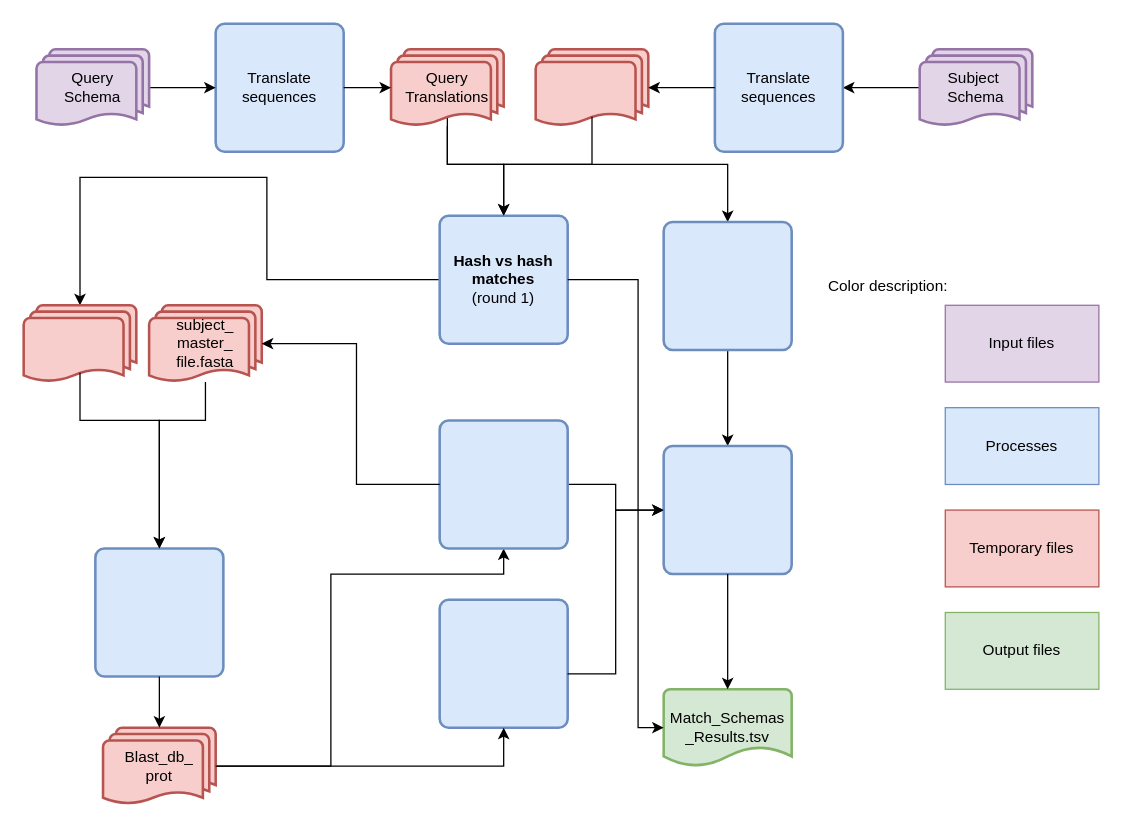
Some shapes in this 1121 by 827 pixel diagram are drawn without their labels. The shapes that lost their labels are listed below. From the top down, each one's centre as x and y in pixels, then its label:
(x=591, y=87): Subject Translations
(x=727, y=285): Calculate self-score
(x=79, y=343): subject_ master_ rep_file.fasta
(x=503, y=484): Run BLASTp rep vs rep (round 2)
(x=727, y=509): Process BLASTp Results and write to file
(x=158, y=612): Create BLASTp database
(x=503, y=663): Run BLASTp rep vs alleles (round 3)
